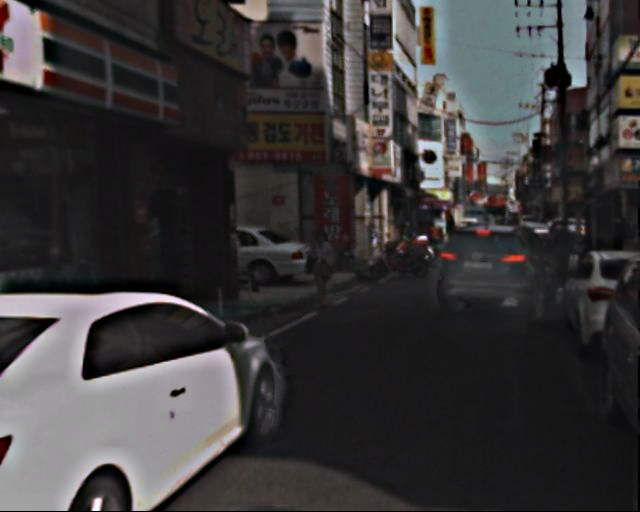person: (547, 218, 578, 294), (311, 233, 341, 307)
